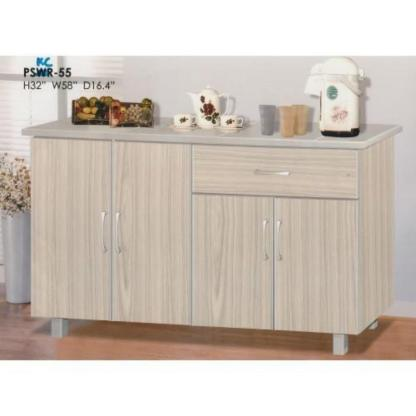Cabinet: (30, 135, 396, 335)
